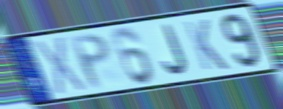6: (111, 25, 158, 87)
9: (221, 12, 263, 71)
J: (161, 23, 190, 77)
K: (181, 17, 231, 73)
P: (67, 31, 114, 91)
X: (32, 34, 89, 97)
